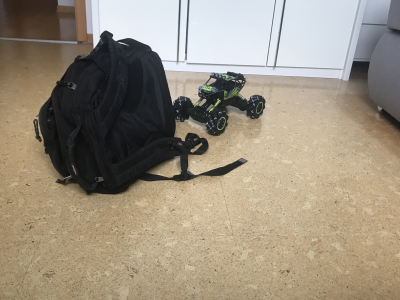remote control car: (170, 69, 268, 138)
